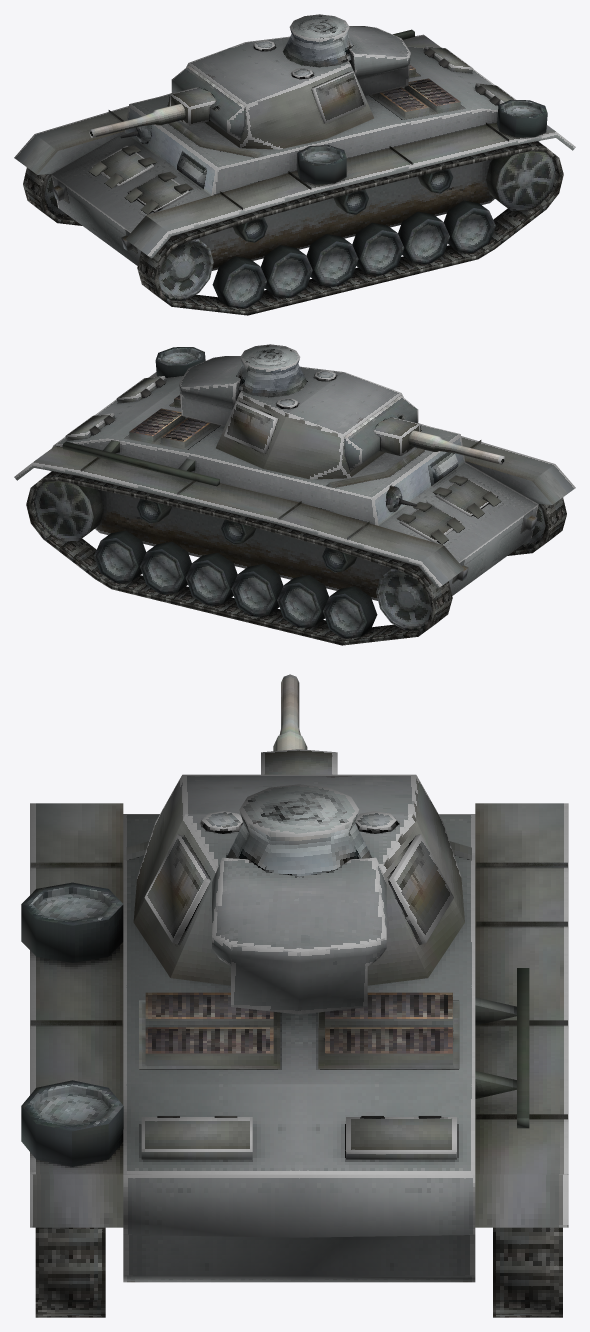
File: TankPz.glb
The picture shows the model from 3 angles, top to bottom: view 1: azimuth 30°, elevation 25°; view 2: azimuth 150°, elevation 25°; view 3: azimuth 270°, elevation 25°; orthographic projection. The views are drawn at different scales.
Visible parts, largest first — view 1: Cube.067, Cube.069; view 2: Cube.067, Cube.069; view 3: Cube.067, Cube.069.
Part boxes in pixels (<box>): Cube.067: <box>14,29,575,315</box>; Cube.069: <box>89,14,410,149</box>; Cube.067: <box>14,347,575,645</box>; Cube.069: <box>179,344,504,479</box>; Cube.067: <box>21,803,568,1317</box>; Cube.069: <box>133,674,464,1014</box>.
Bounding box in the file's own units: 2.5 × 1.15 × 1.38.
1 material, 1 textured.
